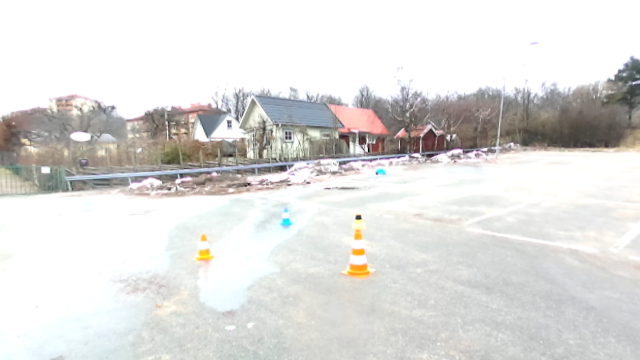blue: (279, 207, 292, 227)
orange: (194, 234, 214, 262)
orange2: (341, 229, 375, 277)
yellow: (352, 211, 364, 227)
